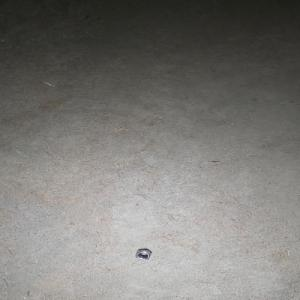Nut: (134, 247, 152, 258)
